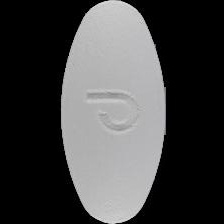49884-574: (0, 0, 224, 224)
